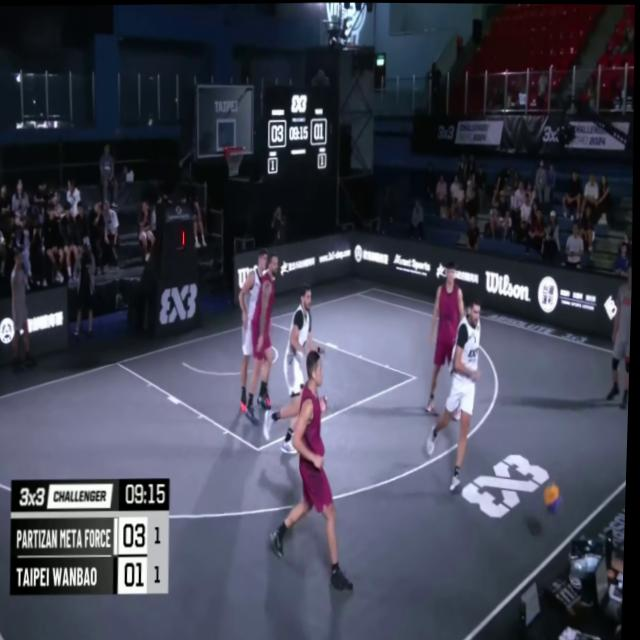ball: (546, 478, 566, 518)
hoop: (222, 138, 247, 185)
player: (268, 349, 361, 593), (426, 298, 487, 495), (277, 280, 329, 453), (420, 257, 471, 423), (245, 251, 287, 431), (236, 252, 273, 417)
